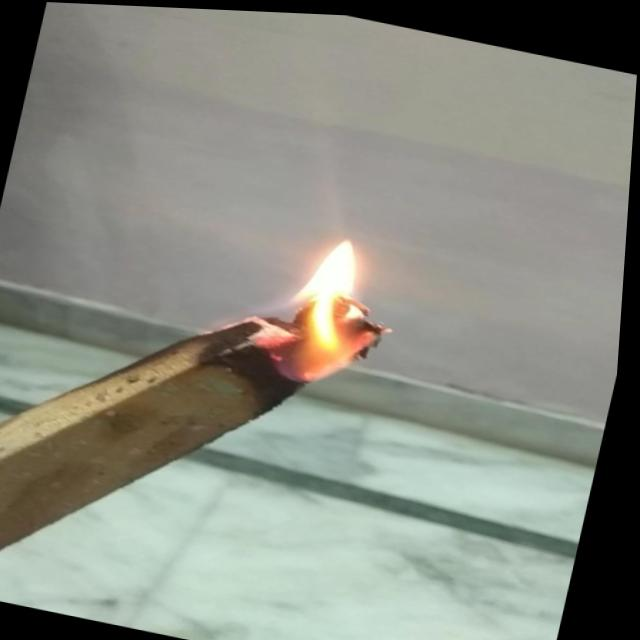fire: (246, 220, 420, 393)
